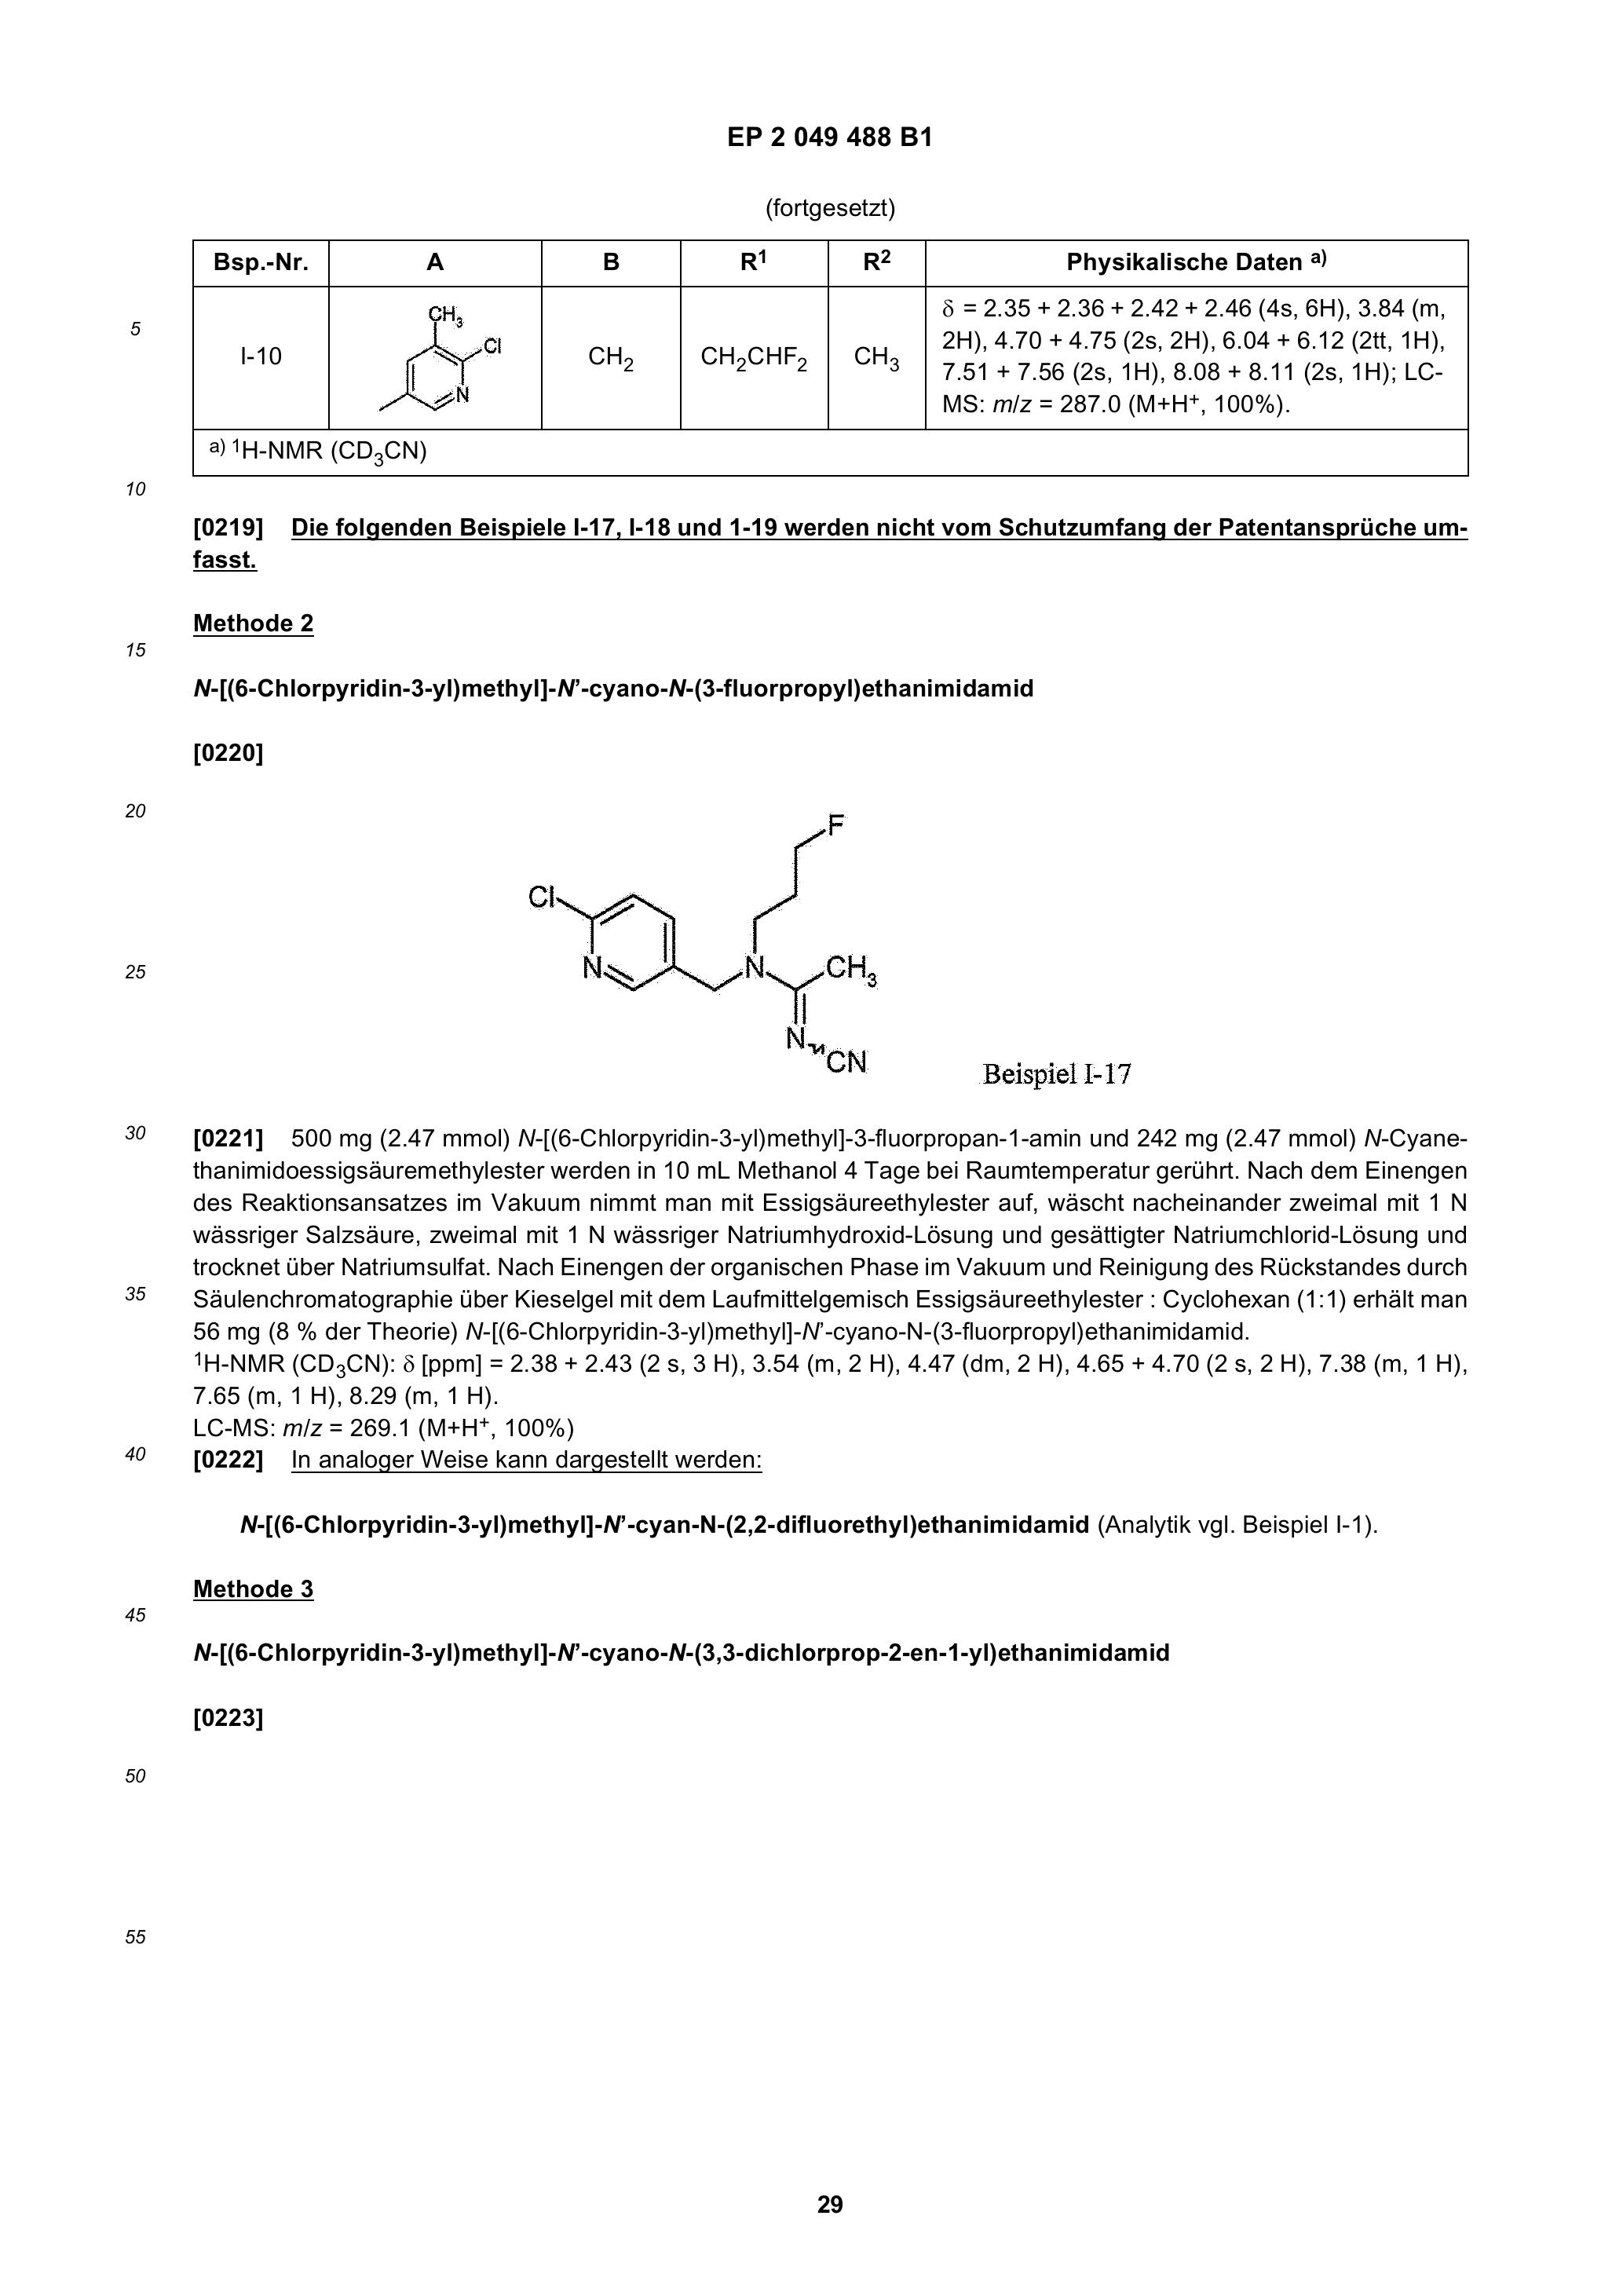relevant-structures: (430, 733, 998, 1117)
substitutes: (360, 288, 497, 416), (701, 336, 808, 381), (583, 314, 638, 381), (854, 339, 899, 365)
